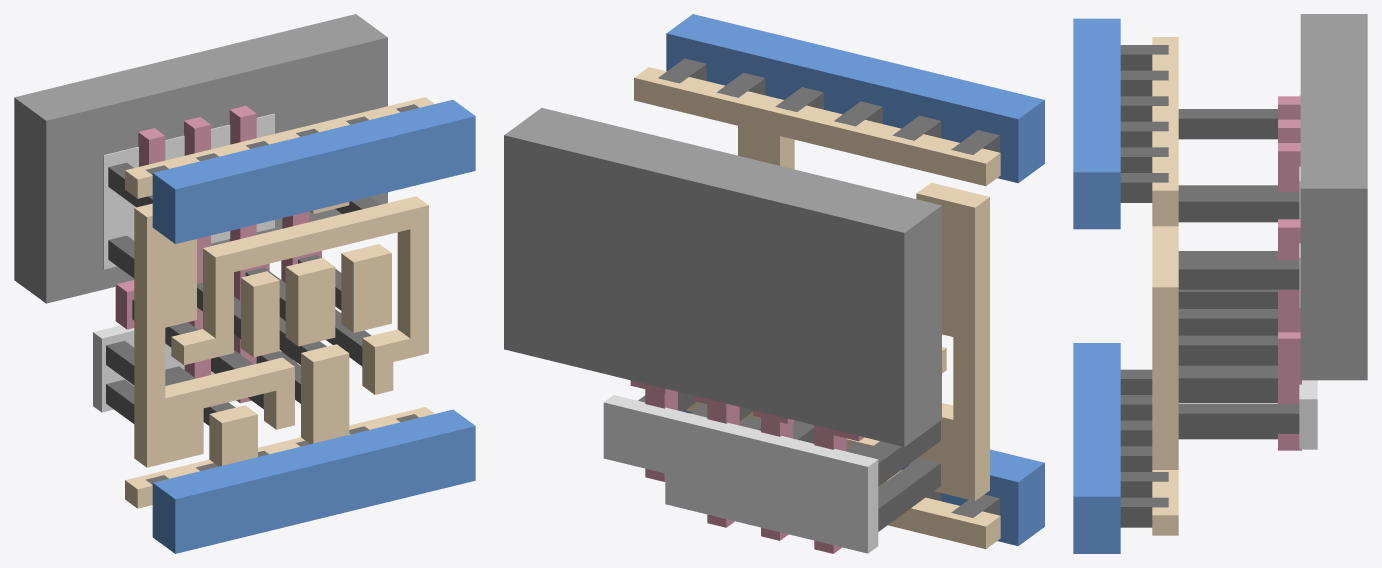
The model's file is sky130_fd_sc_hd__nor3b_1.gds.gltf.
3 renders of one model, left to right at view 1: azimuth 30°, elevation 25°; view 2: azimuth 150°, elevation 25°; view 3: azimuth 270°, elevation 25°, orthographic. The views are drawn at different scales.
Visible parts, largest first — view 1: sky130_fd_sc_hd__nor3b_1_li1, sky130_fd_sc_hd__nor3b_1_met1, sky130_fd_sc_hd__nor3b_1_nwell, sky130_fd_sc_hd__nor3b_1_licon, sky130_fd_sc_hd__nor3b_1_poly, sky130_fd_sc_hd__nor3b_1_diff, sky130_fd_sc_hd__nor3b_1_mcon; view 2: sky130_fd_sc_hd__nor3b_1_nwell, sky130_fd_sc_hd__nor3b_1_li1, sky130_fd_sc_hd__nor3b_1_met1, sky130_fd_sc_hd__nor3b_1_diff, sky130_fd_sc_hd__nor3b_1_licon, sky130_fd_sc_hd__nor3b_1_mcon, sky130_fd_sc_hd__nor3b_1_poly; view 3: sky130_fd_sc_hd__nor3b_1_licon, sky130_fd_sc_hd__nor3b_1_nwell, sky130_fd_sc_hd__nor3b_1_met1, sky130_fd_sc_hd__nor3b_1_li1, sky130_fd_sc_hd__nor3b_1_mcon, sky130_fd_sc_hd__nor3b_1_poly, sky130_fd_sc_hd__nor3b_1_diff.
Part boxes in pixels (x1,y1,x2,y2): sky130_fd_sc_hd__nor3b_1_li1: [125, 97, 434, 508]; sky130_fd_sc_hd__nor3b_1_met1: [152, 99, 475, 553]; sky130_fd_sc_hd__nor3b_1_nwell: [14, 14, 387, 303]; sky130_fd_sc_hd__nor3b_1_licon: [106, 162, 380, 425]; sky130_fd_sc_hd__nor3b_1_poly: [115, 106, 321, 403]; sky130_fd_sc_hd__nor3b_1_diff: [93, 113, 274, 412]; sky130_fd_sc_hd__nor3b_1_mcon: [146, 104, 419, 484]; sky130_fd_sc_hd__nor3b_1_nwell: [504, 108, 941, 446]; sky130_fd_sc_hd__nor3b_1_li1: [634, 67, 1000, 549]; sky130_fd_sc_hd__nor3b_1_met1: [666, 14, 1044, 546]; sky130_fd_sc_hd__nor3b_1_diff: [603, 395, 878, 553]; sky130_fd_sc_hd__nor3b_1_licon: [638, 392, 940, 531]; sky130_fd_sc_hd__nor3b_1_mcon: [658, 58, 999, 517]; sky130_fd_sc_hd__nor3b_1_poly: [630, 380, 863, 553]; sky130_fd_sc_hd__nor3b_1_licon: [1178, 109, 1299, 439]; sky130_fd_sc_hd__nor3b_1_nwell: [1300, 14, 1367, 380]; sky130_fd_sc_hd__nor3b_1_met1: [1073, 18, 1120, 553]; sky130_fd_sc_hd__nor3b_1_li1: [1152, 37, 1178, 535]; sky130_fd_sc_hd__nor3b_1_mcon: [1120, 45, 1168, 527]; sky130_fd_sc_hd__nor3b_1_poly: [1278, 96, 1301, 450]; sky130_fd_sc_hd__nor3b_1_diff: [1299, 94, 1317, 449].
Size of the model in its own units: 3.14 by 3.2 by 2.24.
